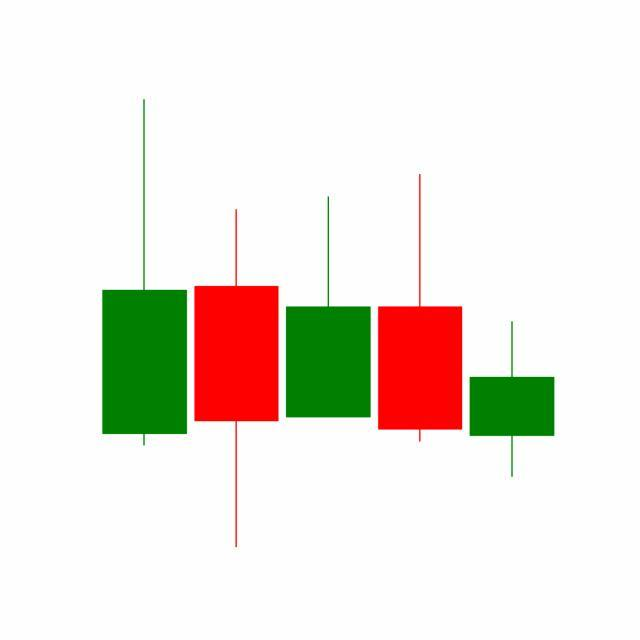Stick Sandwich: (190, 170, 467, 549)
